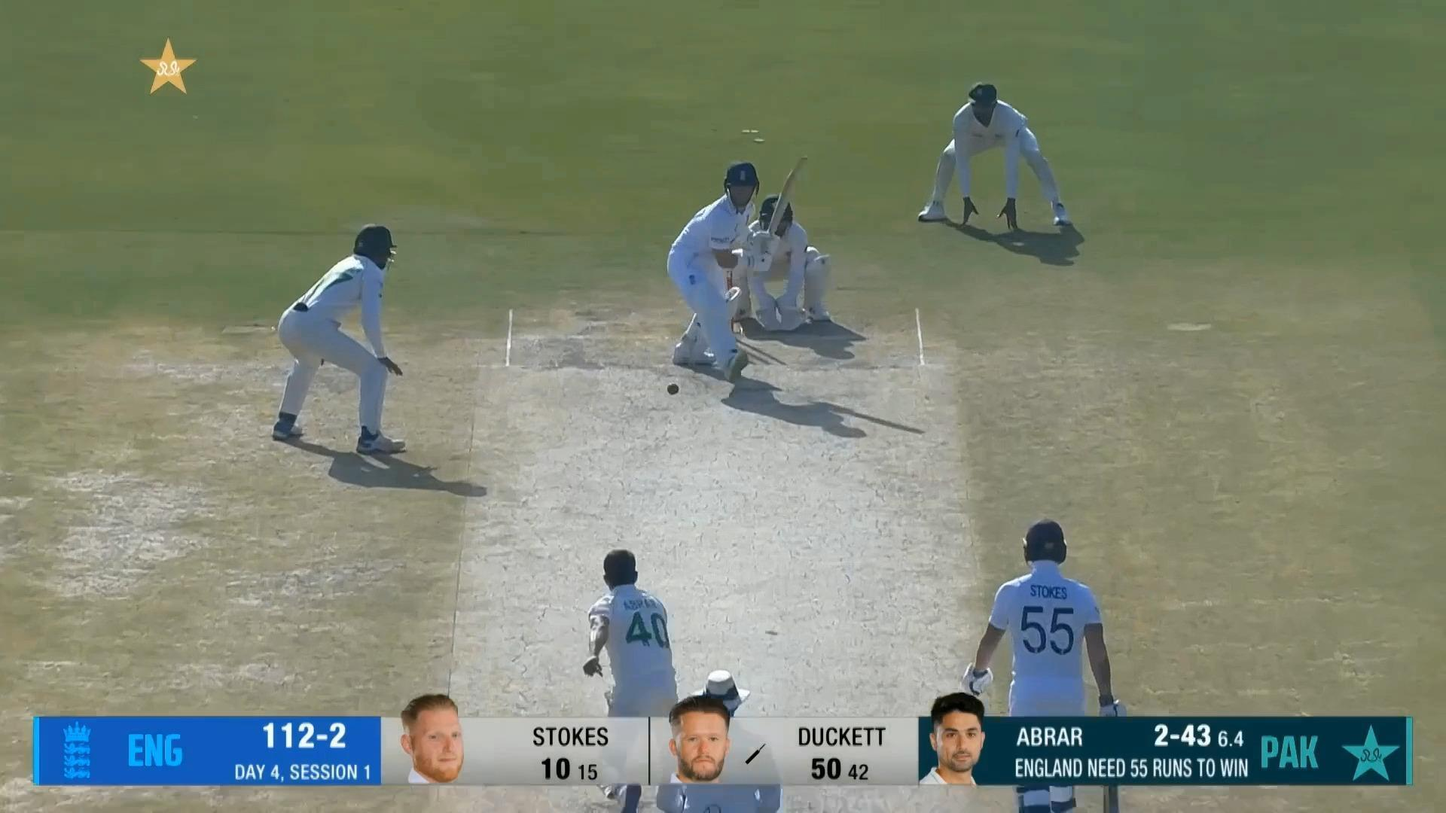BM 1: (666, 151, 813, 385)
BO: (583, 549, 680, 813)
